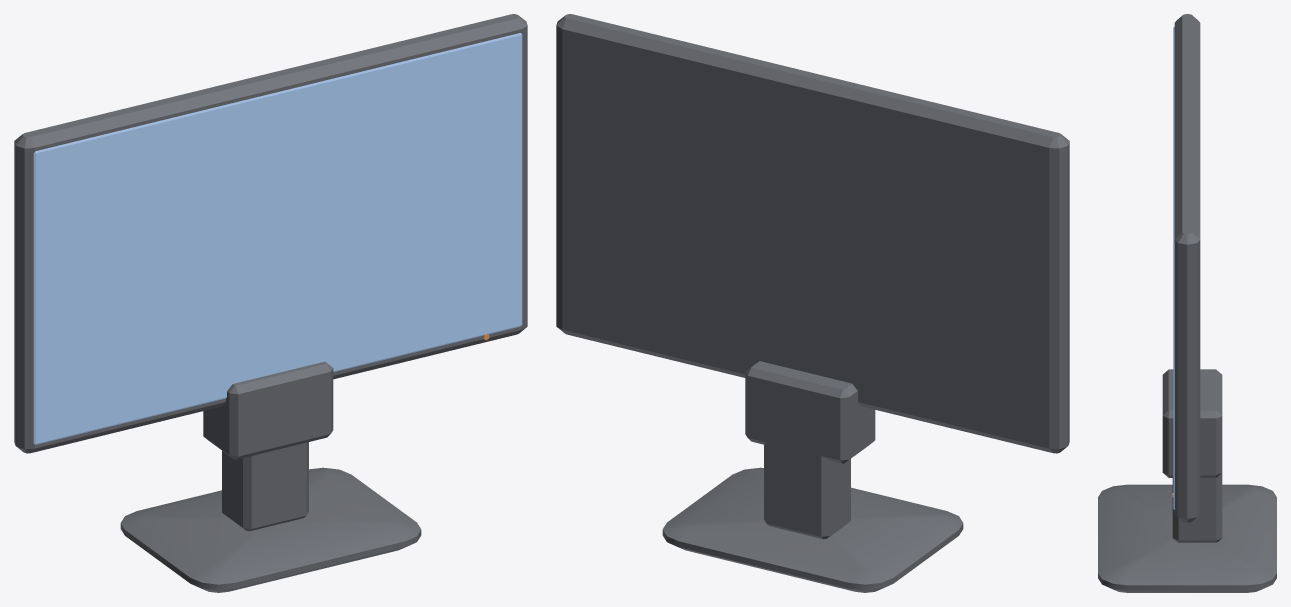
Rendered from computers-and-desk-gadgets-monitor-24-flat-7108a75c.glb.
3 views of the same model, side by side, from view 1: azimuth 30°, elevation 25°; view 2: azimuth 150°, elevation 25°; view 3: azimuth 270°, elevation 25° (orthographic). The views are drawn at different scales.
Parts seen in each view (by area): view 1: monitor-24-flat; view 2: monitor-24-flat; view 3: monitor-24-flat.
Boxes of the visible parts, <box> form: monitor-24-flat: <box>14,14,527,592</box>; monitor-24-flat: <box>556,14,1069,592</box>; monitor-24-flat: <box>1098,14,1276,592</box>.
Size of the model in its own units: 0.54 by 0.47 by 0.18.
